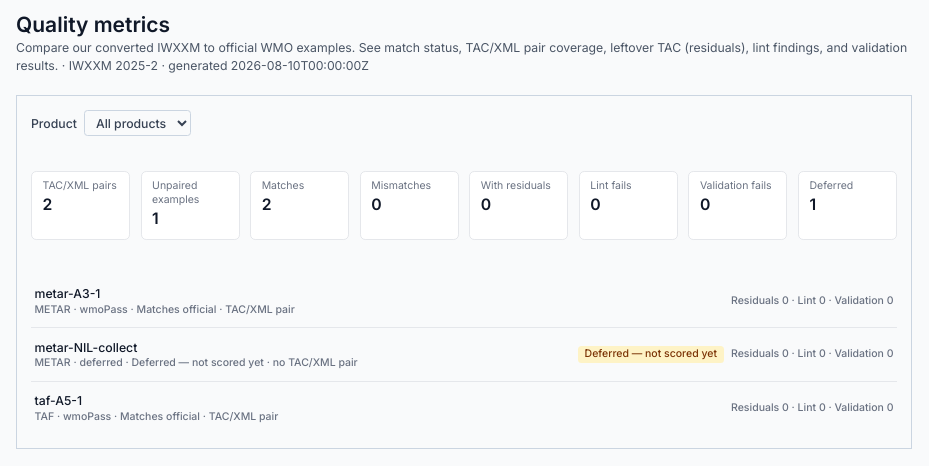
Scenario: QualityMetricsPage (TC-EV054-002) › filters list by product
Expected: the list with test id "quality-metrics-file-list" is shown, [31, 274, 897, 434]
Select "METAR" in the dropdown with test id "quality-metrics-product-filter". click: (138, 123)
box: [84, 110, 191, 136]
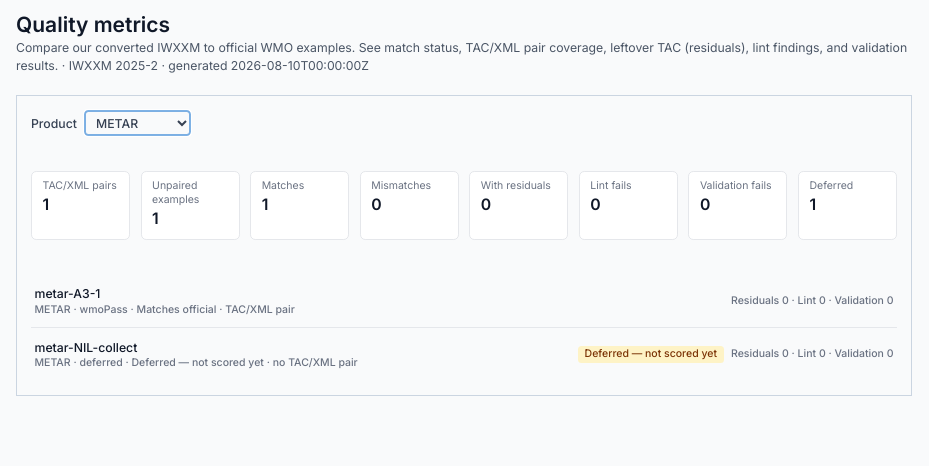
Expected: the button with test id "quality-metrics-row-metar-A3-1" is shown, [31, 274, 897, 327]
Expected: the button with test id "quality-metrics-row-taf-A5-1" is gone
